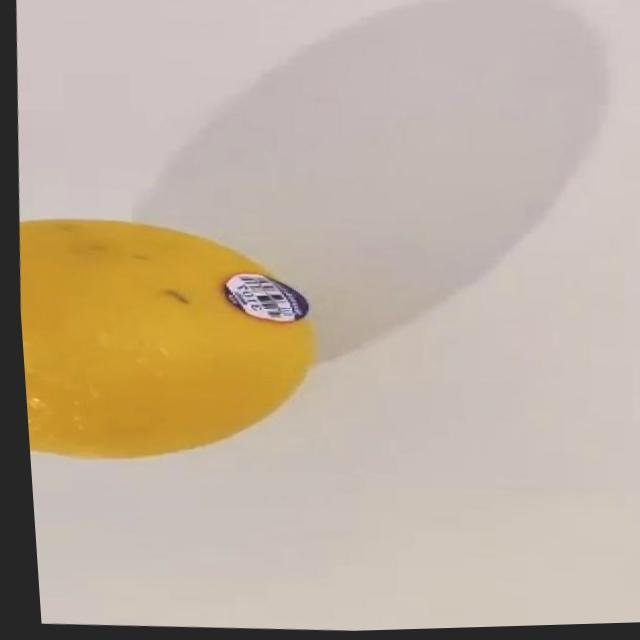Orange: (11, 208, 327, 472)
